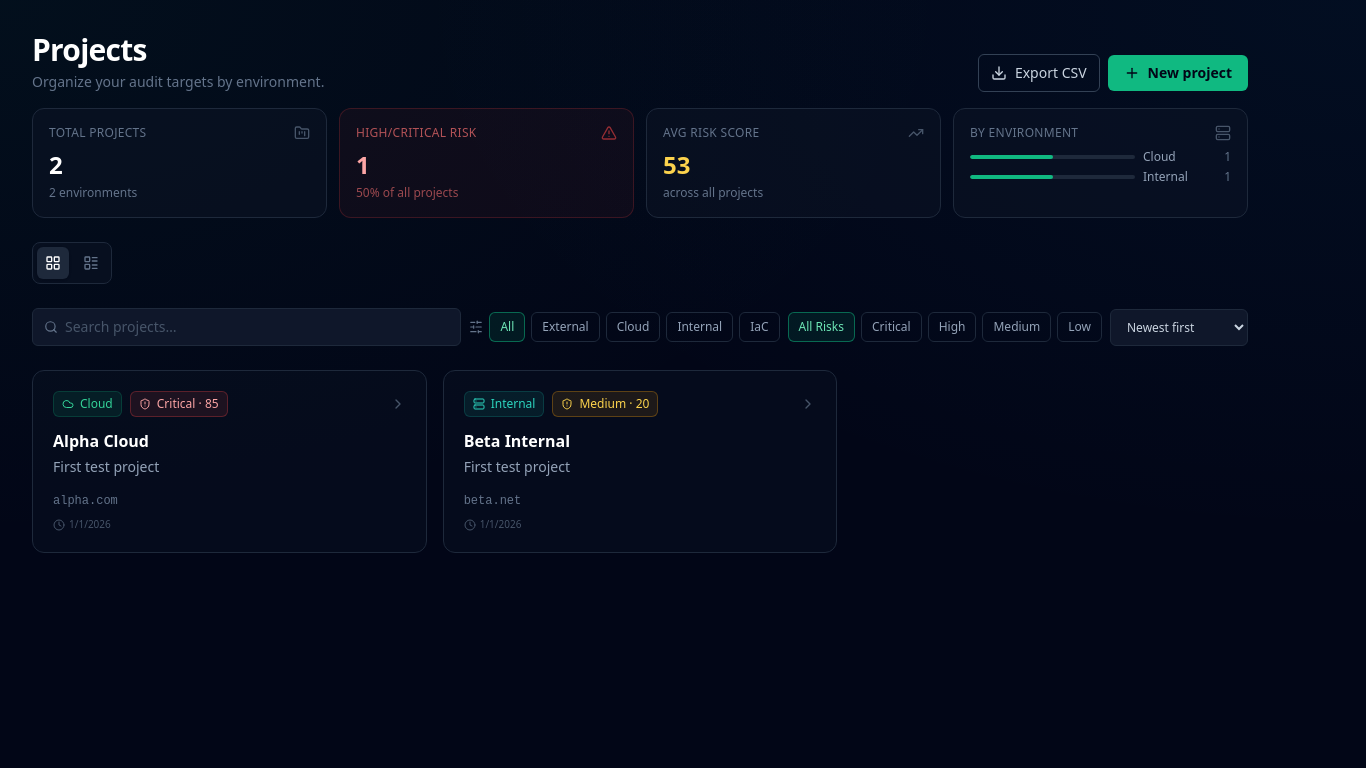
Scenario: Projects — search and filter › shows no-match state when filters eliminate all results
Expected: the heading "Alpha Cloud" is shown, [53, 430, 149, 452]
In the field with placeholder "Search projects…": (247, 327) [32, 308, 461, 346], type "zzznotfound"
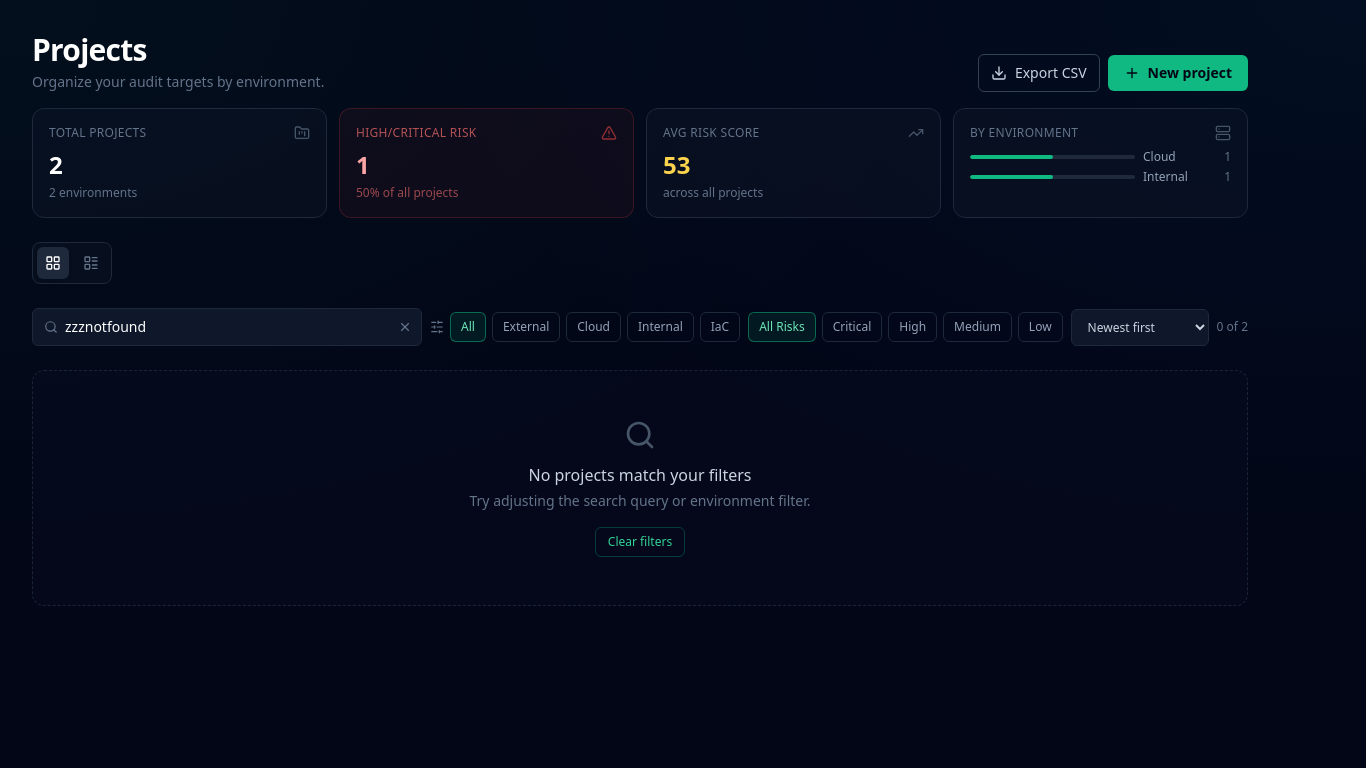
Now the text "No projects match your filters" is shown, box [528, 464, 752, 486]
